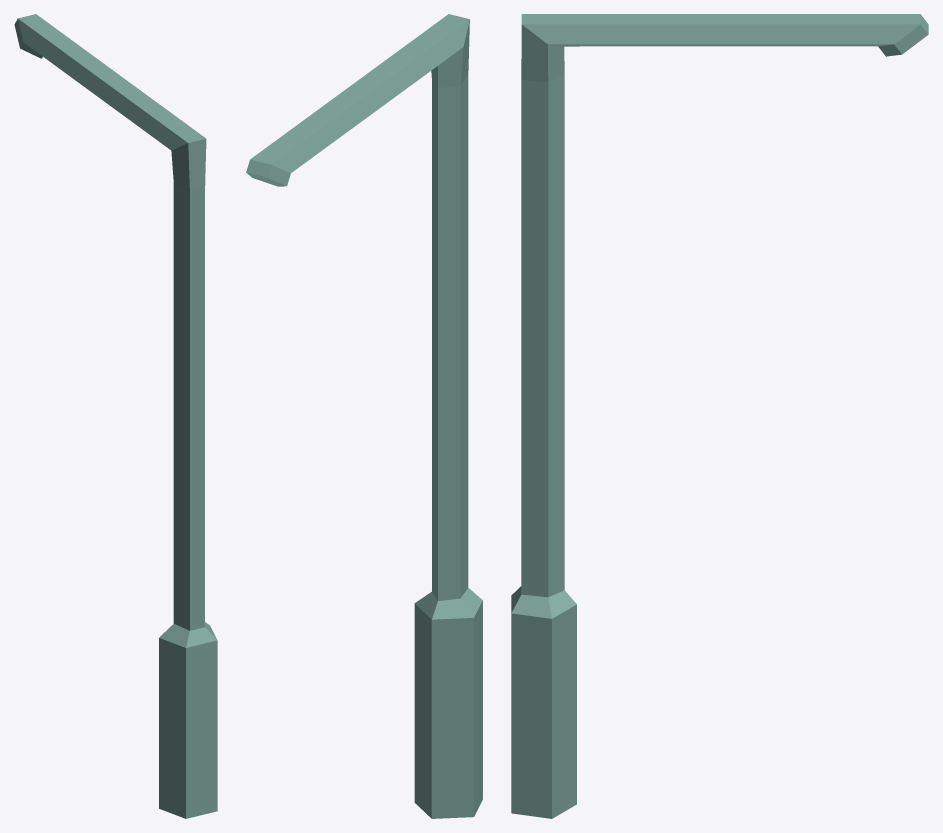
Rendered from street_light.glb.
The picture shows the model from 3 angles, left to right: view 1: azimuth 30°, elevation 25°; view 2: azimuth 150°, elevation 25°; view 3: azimuth 270°, elevation 25°; orthographic projection. The views are drawn at different scales.
Visible parts, largest first — view 1: street_light; view 2: street_light; view 3: street_light.
Part boxes in pixels (x1,y1,x2,y2): street_light: (14,14,217,818); street_light: (246,14,482,818); street_light: (511,14,928,818).
Bounding box in the file's own units: 0.4394 × 5.52 × 2.66.
Materials: 1 (1 with a texture image).
